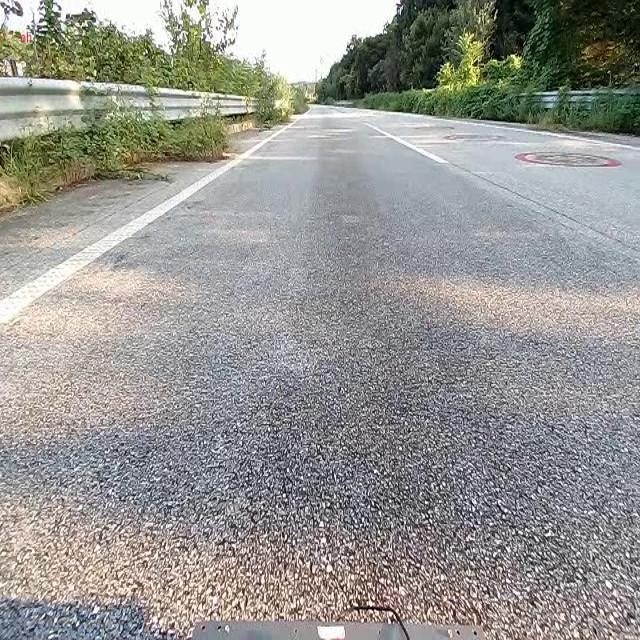Lane: (0, 92, 318, 335), (0, 104, 316, 330), (362, 112, 448, 178), (366, 123, 447, 163)
